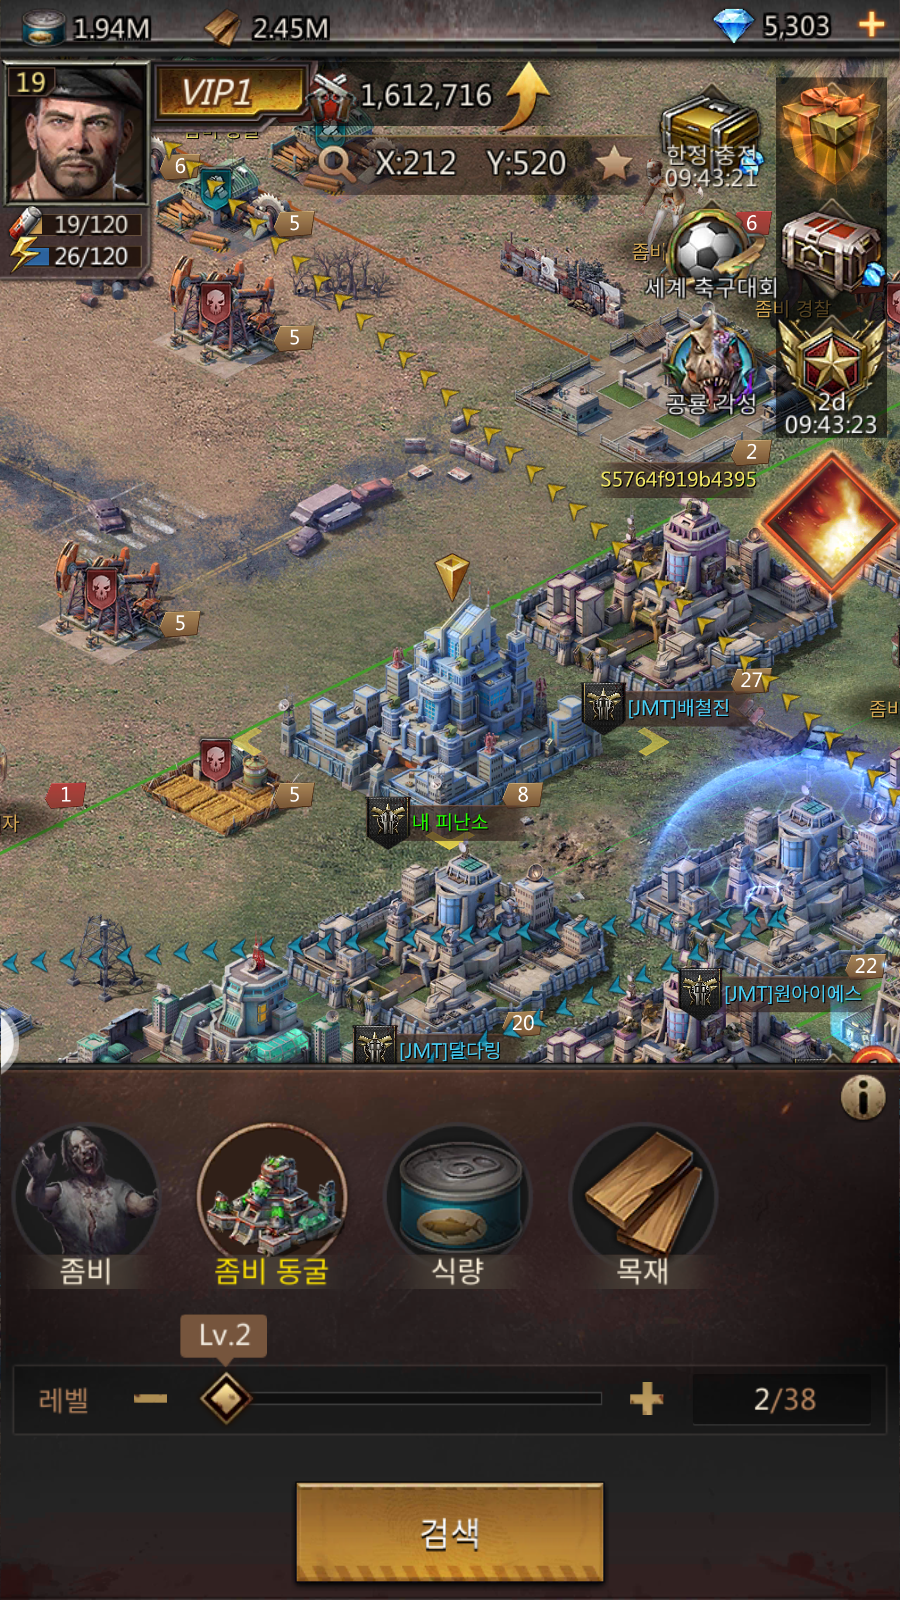rss_food_in_panel: (385, 1120, 536, 1296)
rss_lv2: (178, 1310, 271, 1354)
rss_minus_in_panel: (125, 1374, 173, 1420)
rss_plus_in_panel: (622, 1369, 676, 1422)
rss_search_in_panel: (297, 1485, 603, 1580)
rss_wood_in_panel: (571, 1120, 722, 1298)
